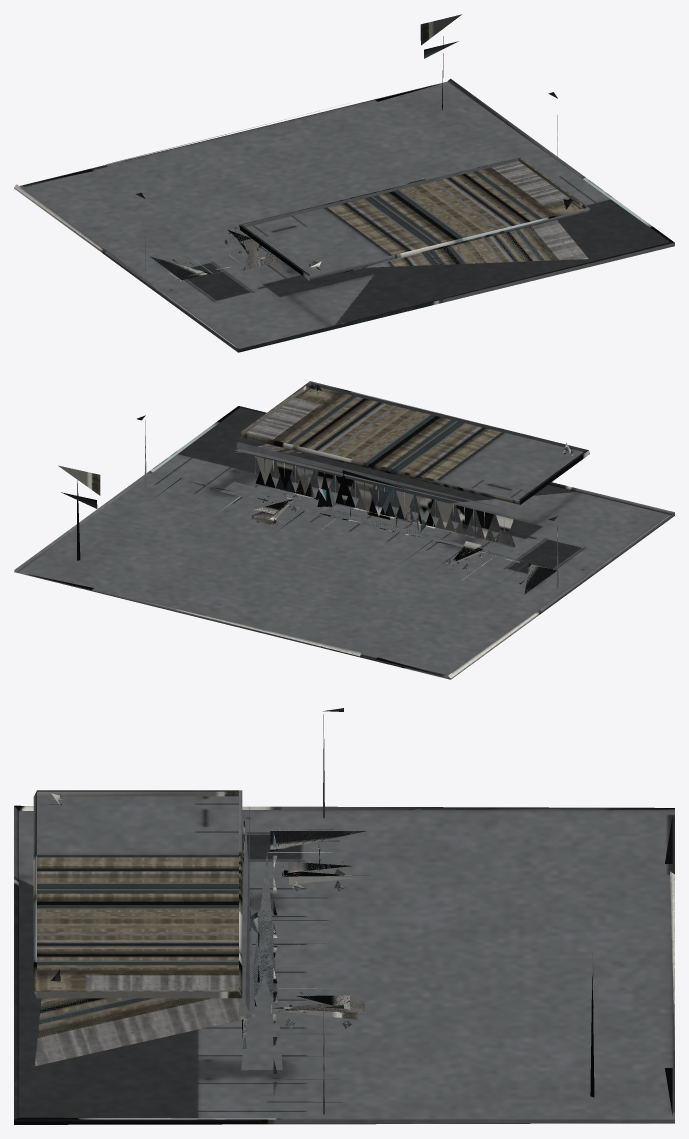
The model's file is convenience_roadside_001.lod2.obj.
3 views of the same model, one above another, from view 1: azimuth 30°, elevation 25°; view 2: azimuth 150°, elevation 25°; view 3: azimuth 270°, elevation 25° (orthographic). The views are drawn at different scales.
Visible parts, largest first — view 1: convenience_roadside_001; view 2: convenience_roadside_001; view 3: convenience_roadside_001.
Part boxes in pixels (<box>): convenience_roadside_001: <box>14,14,674,352</box>; convenience_roadside_001: <box>14,381,674,679</box>; convenience_roadside_001: <box>14,708,674,1124</box>.
Bounding box in the file's own units: 36 × 7.4 × 32.
1 material, 1 textured.
